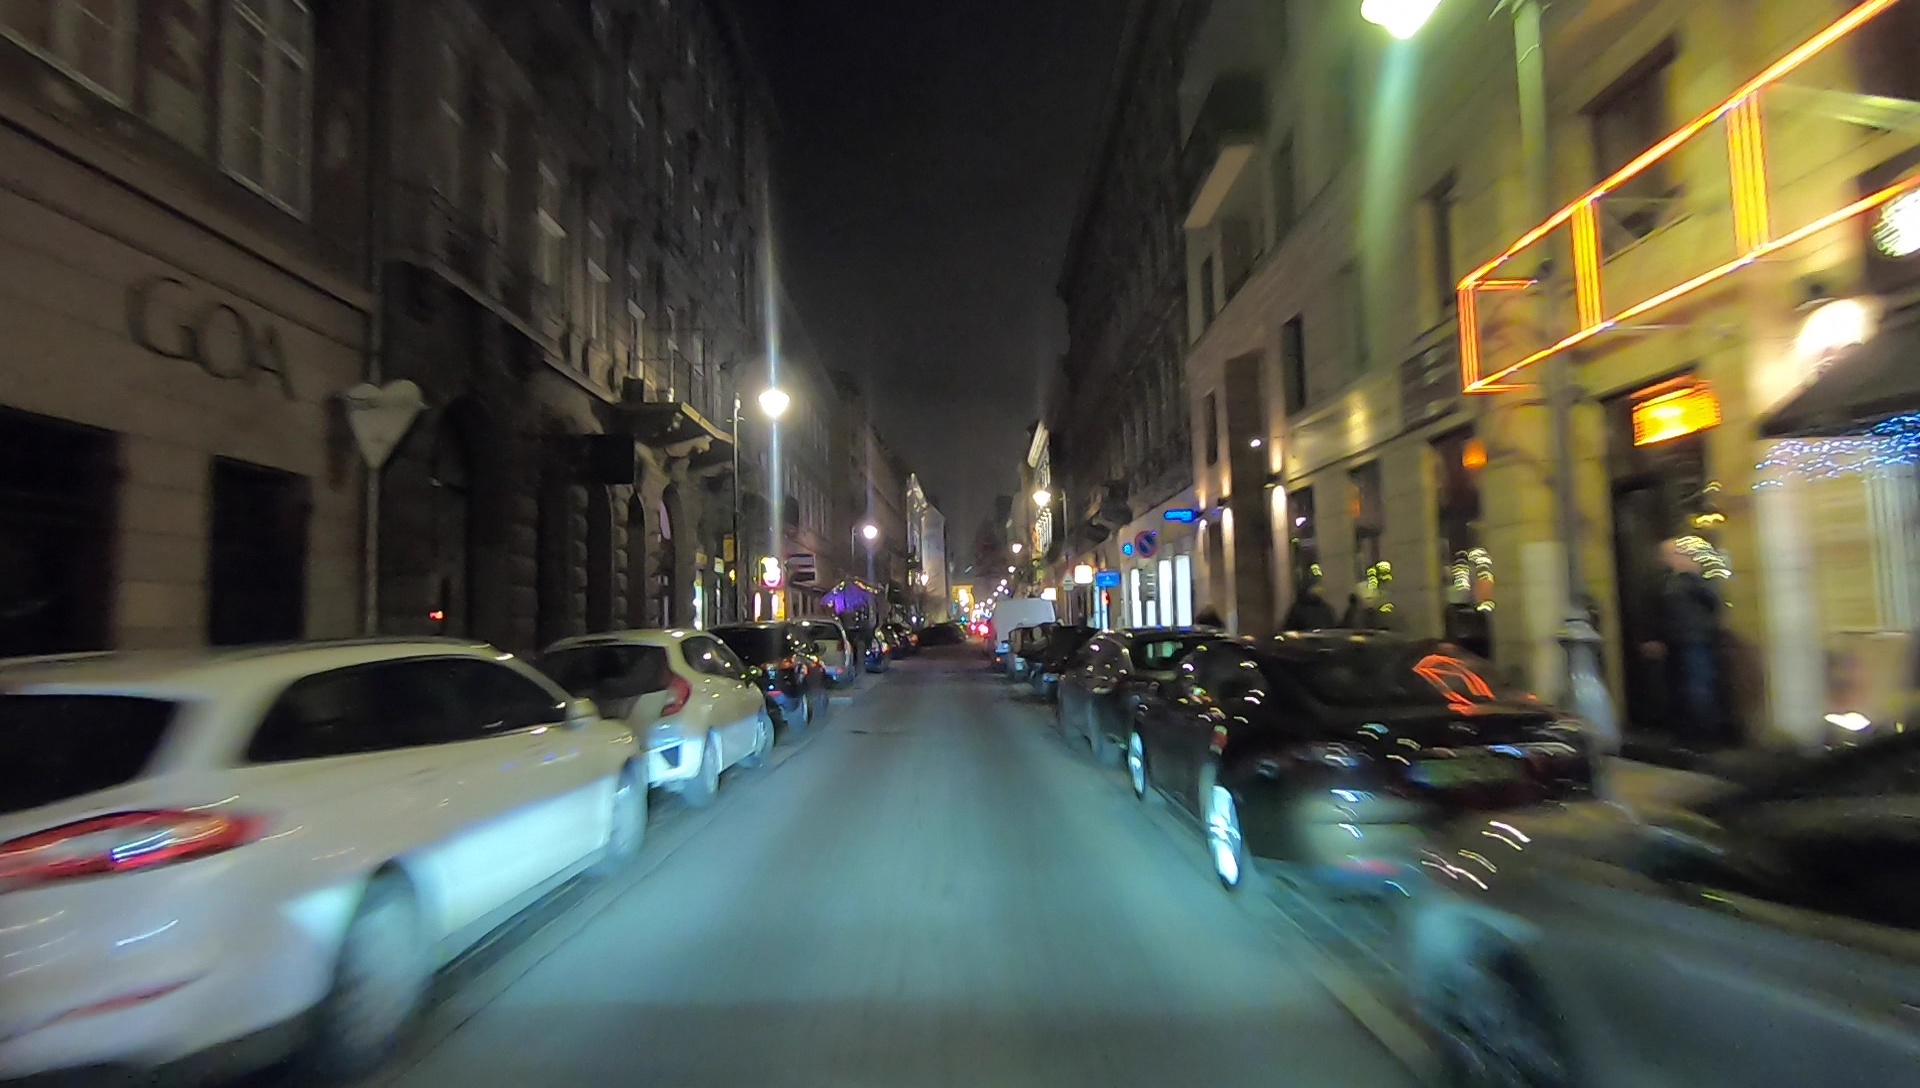person: (1660, 532, 1730, 749)
